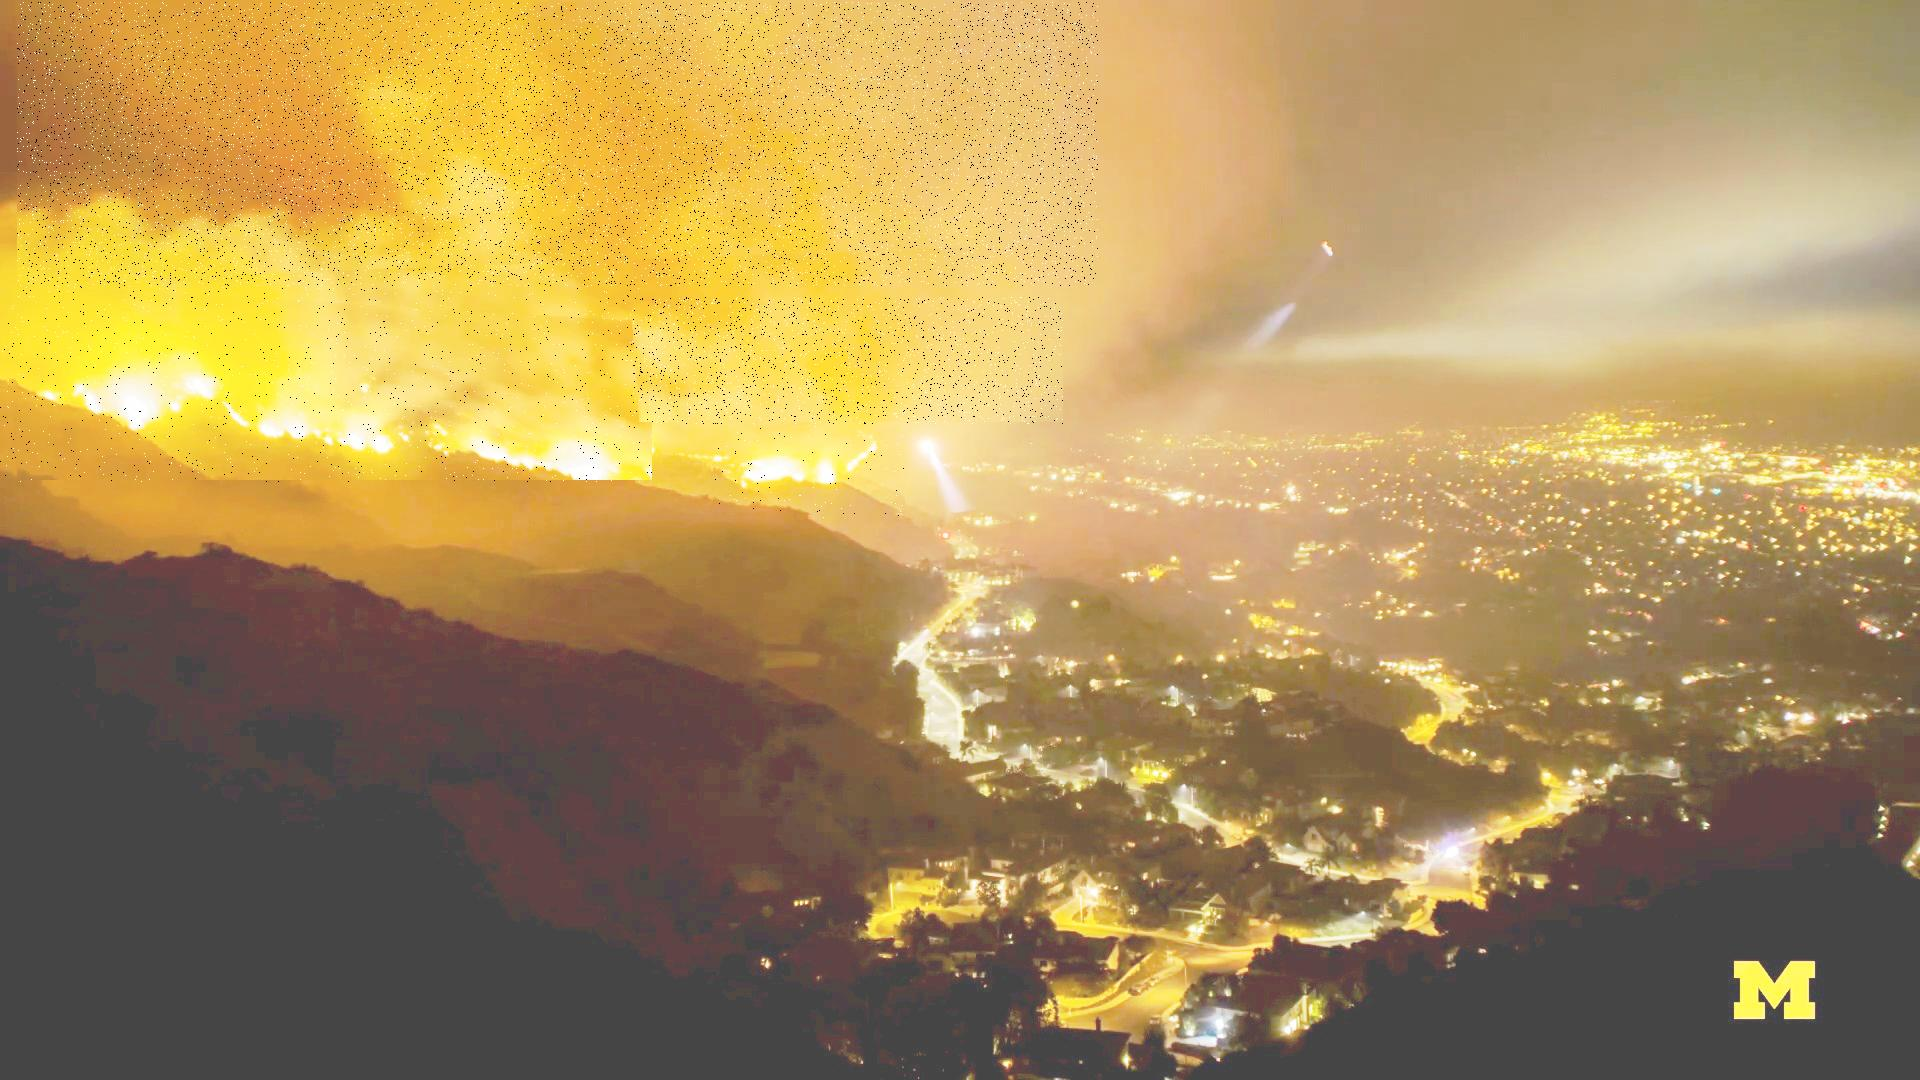fire: (0, 286, 651, 483), (713, 426, 905, 518)
smoke: (18, 3, 1098, 286), (630, 298, 1063, 425)
